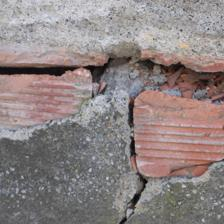Crack: (21, 0, 132, 108), (32, 2, 66, 105), (64, 98, 108, 153)
